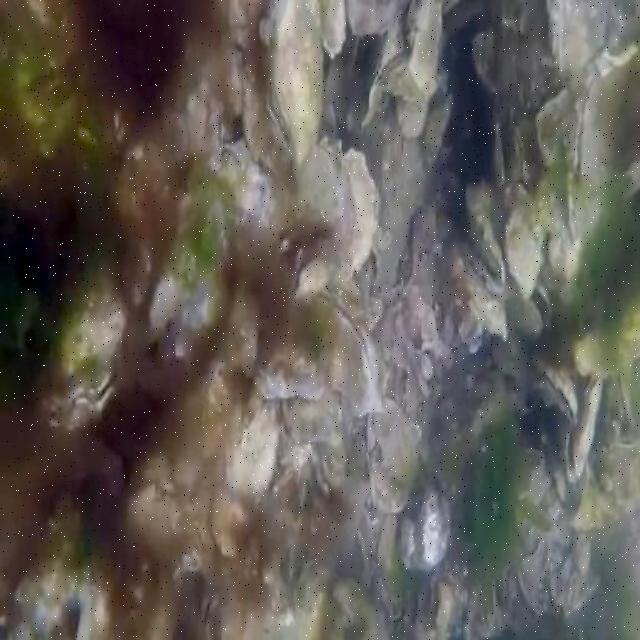Oyster-Closed: (286, 141, 382, 285), (217, 388, 283, 497), (362, 390, 418, 514), (545, 0, 620, 78), (399, 0, 443, 92)
Oyster-Open: (560, 44, 640, 240), (257, 0, 327, 164), (314, 285, 386, 421), (468, 179, 544, 303), (336, 14, 402, 134), (554, 372, 604, 484), (37, 369, 125, 428), (256, 338, 330, 408), (502, 272, 556, 348), (527, 352, 577, 416), (487, 119, 531, 183)
